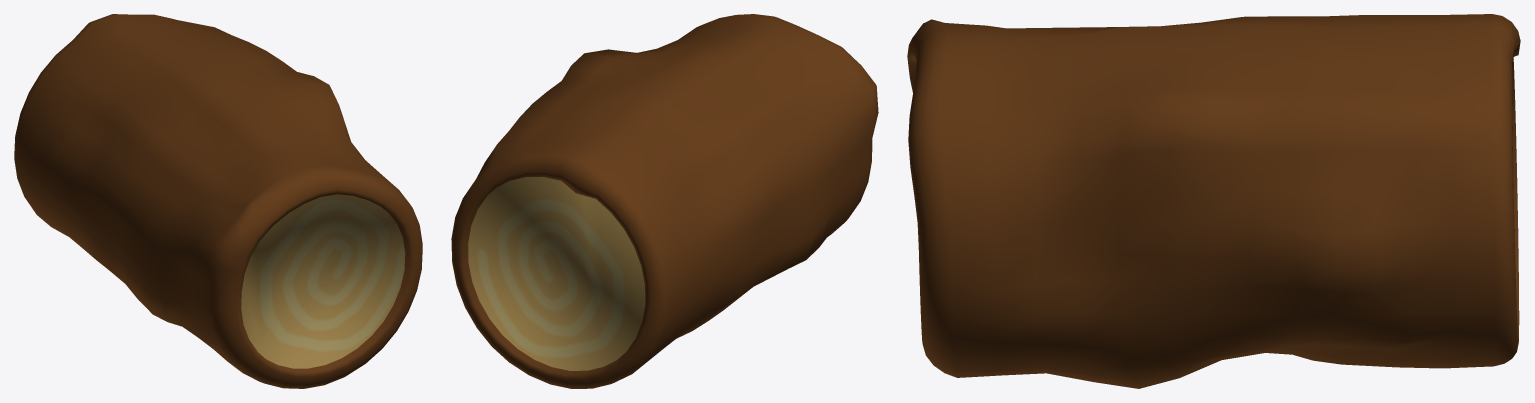
The model's file is loggy.fbx.
The picture shows the model from 3 angles, left to right: view 1: azimuth 30°, elevation 25°; view 2: azimuth 150°, elevation 25°; view 3: azimuth 270°, elevation 25°; orthographic projection. The views are drawn at different scales.
Visible parts, largest first — view 1: Cylinder; view 2: Cylinder; view 3: Cylinder.
Boxes of the visible parts, <box> form: Cylinder: <box>14,14,422,388</box>; Cylinder: <box>451,14,878,388</box>; Cylinder: <box>907,14,1520,388</box>.
Bounding box in the file's own units: 223 × 213 × 356.
